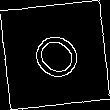O_SE: (22, 22, 88, 88)
